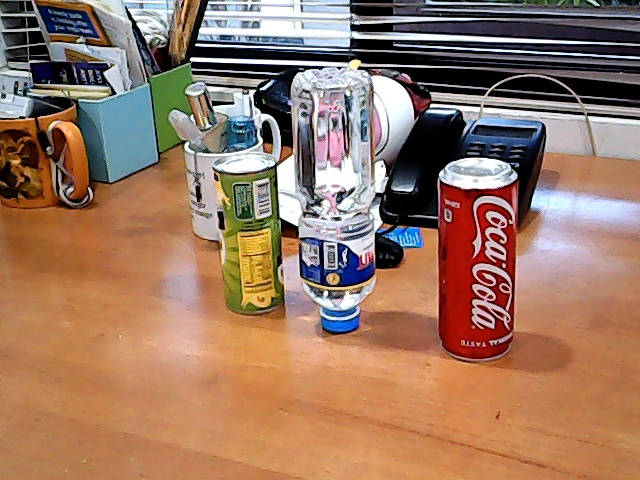Cola: (420, 137, 540, 384)
Pine Juice: (209, 138, 292, 322)
Summit Water: (294, 54, 395, 340)
